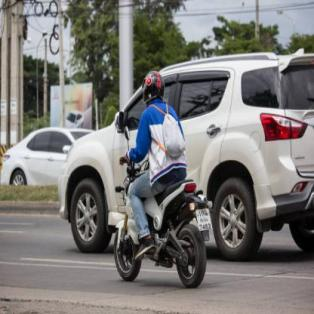Motocicleta: (111, 152, 210, 290)
